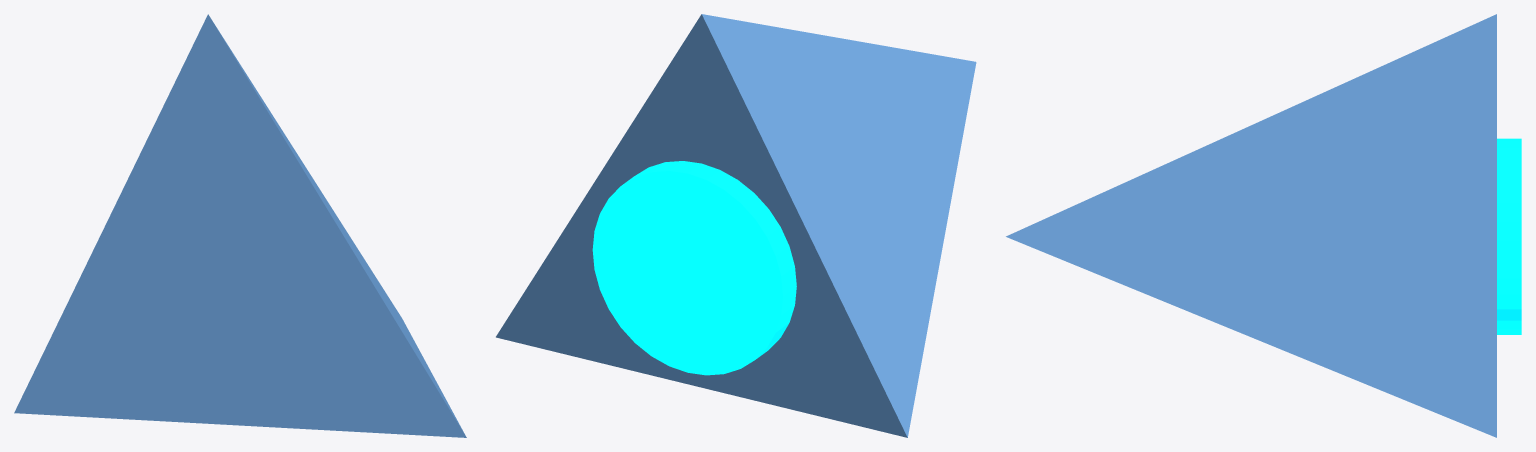
File: enemy_v2_standard.glb
3 renders of one model, left to right at view 1: azimuth 30°, elevation 25°; view 2: azimuth 150°, elevation 25°; view 3: azimuth 270°, elevation 25°, orthographic. The views are drawn at different scales.
Parts seen in each view (by area): view 1: Cone; view 2: Cone, Cylinder; view 3: Cone, Cylinder.
Boxes of the visible parts, x1=… form: Cone: x1=14, y1=14, x2=466, y2=437; Cone: x1=496, y1=14, x2=976, y2=437; Cylinder: x1=592, y1=161, x2=796, y2=375; Cone: x1=1006, y1=14, x2=1496, y2=437; Cylinder: x1=1497, y1=138, x2=1521, y2=334.
Bounding box in the file's own units: 1.73 × 1.5 × 2.1.
